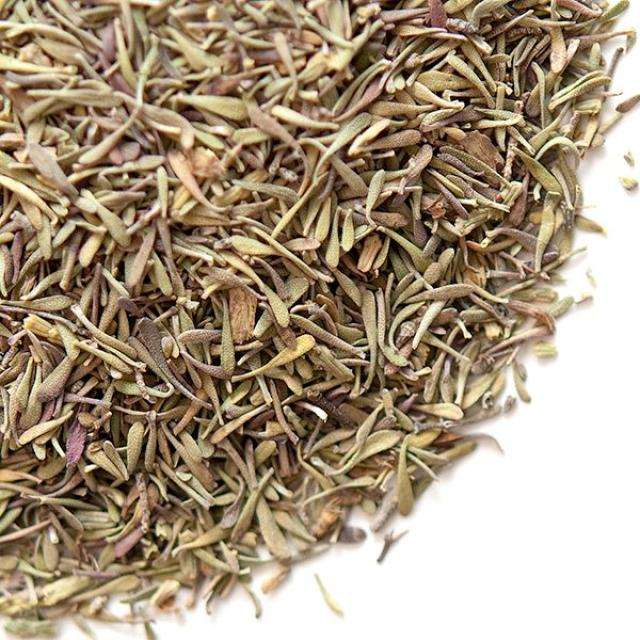Thyme: (0, 0, 639, 603)
